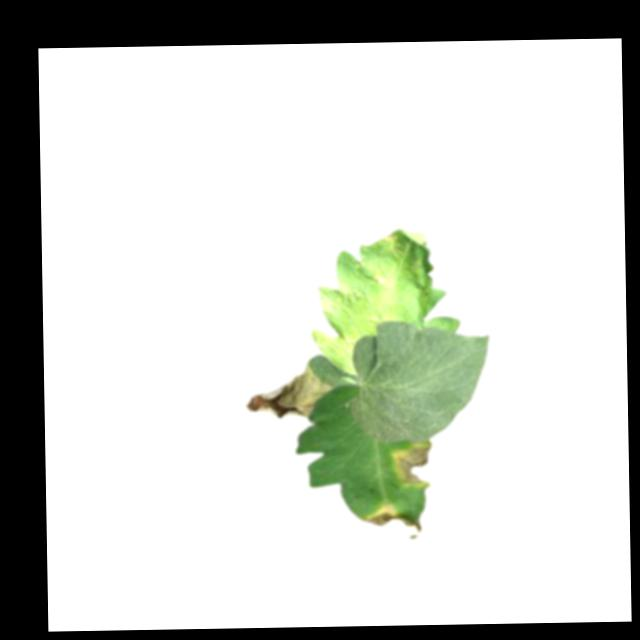Late_blight: (243, 360, 334, 420), (390, 441, 436, 488), (366, 502, 424, 539), (381, 229, 406, 258), (370, 266, 393, 291)
healthy: (352, 319, 492, 444)
